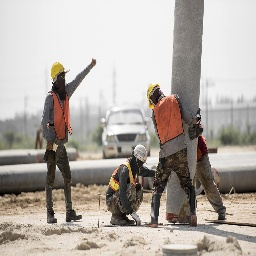helmet: (48, 60, 67, 83), (131, 143, 148, 168)
person: (145, 80, 202, 230), (39, 61, 83, 223), (107, 140, 147, 226)
vest: (151, 95, 183, 149), (51, 89, 73, 143)
